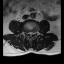CCS_normal: (30, 30, 31, 38)
LFS_stenosis: (33, 31, 34, 36)
LLS_normal: (31, 31, 33, 36)
RFS_stenosis: (26, 31, 28, 36)
RLS_normal: (28, 30, 30, 36)
